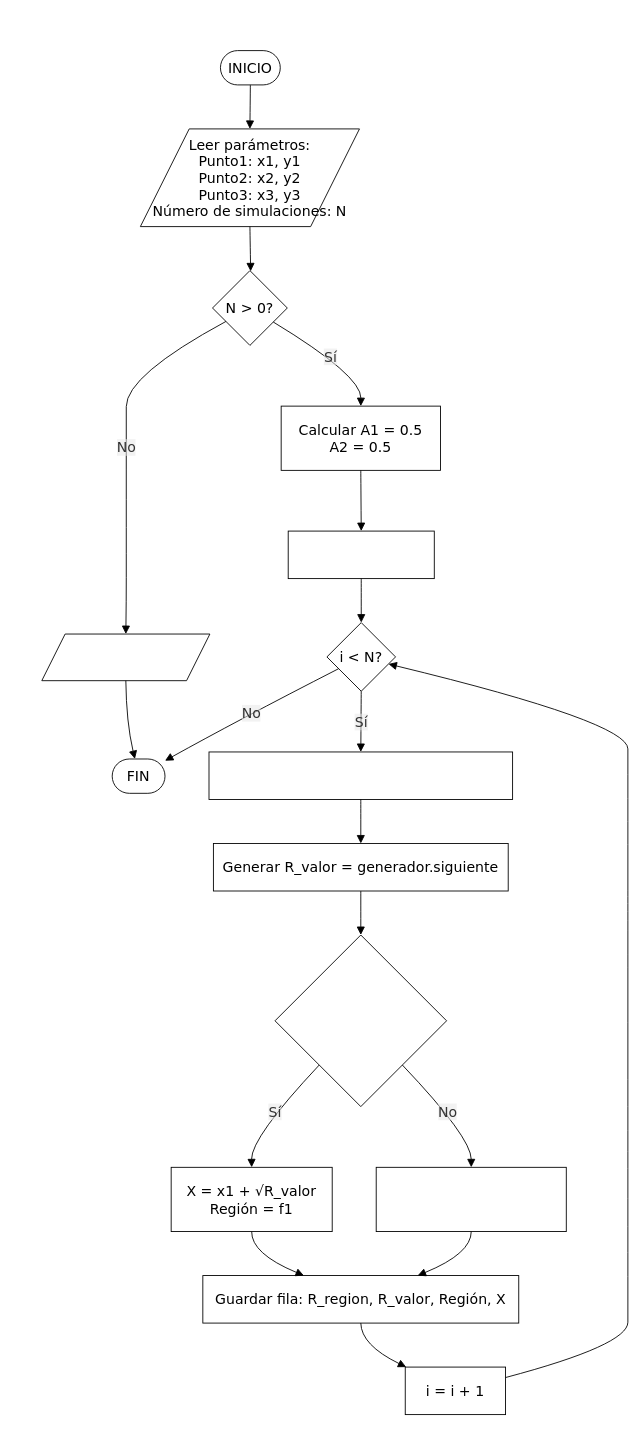
Image size: 643x1430. Some labels were removed from this diagram. Here are the shapes that lost their labels. From the top down, the centre of each, then its label:
At point 360,554: "Inicializar i = 0".
At point 125,657: "Mostrar error: N debe ser positivo".
At point 360,775: "Generar R_region = generador.siguiente".
At point 360,1020: "R_region <= A1?".
At point 470,1199: "X = x3 - √(1 - R_valor) Región = f2".
